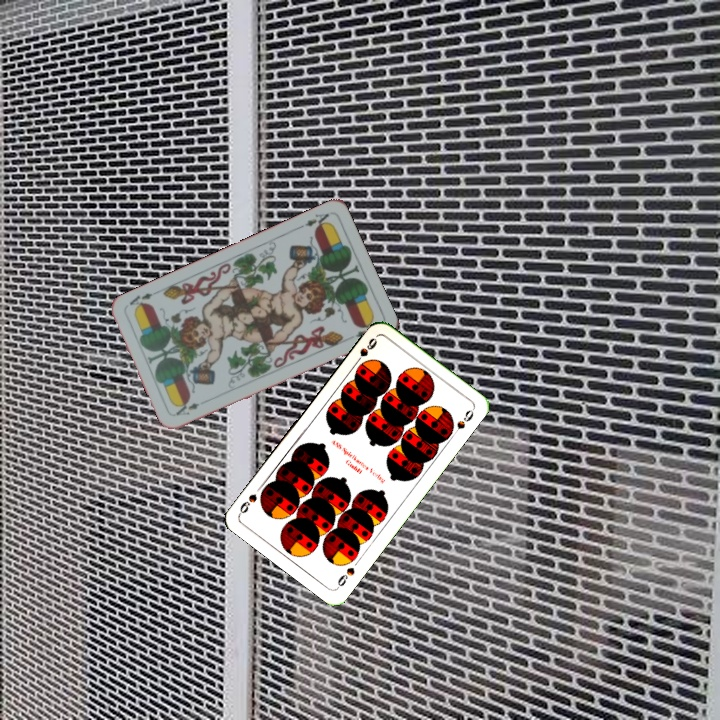EA: (294, 209, 333, 232), (171, 396, 210, 418)
S9: (350, 334, 380, 368), (333, 563, 357, 591)
